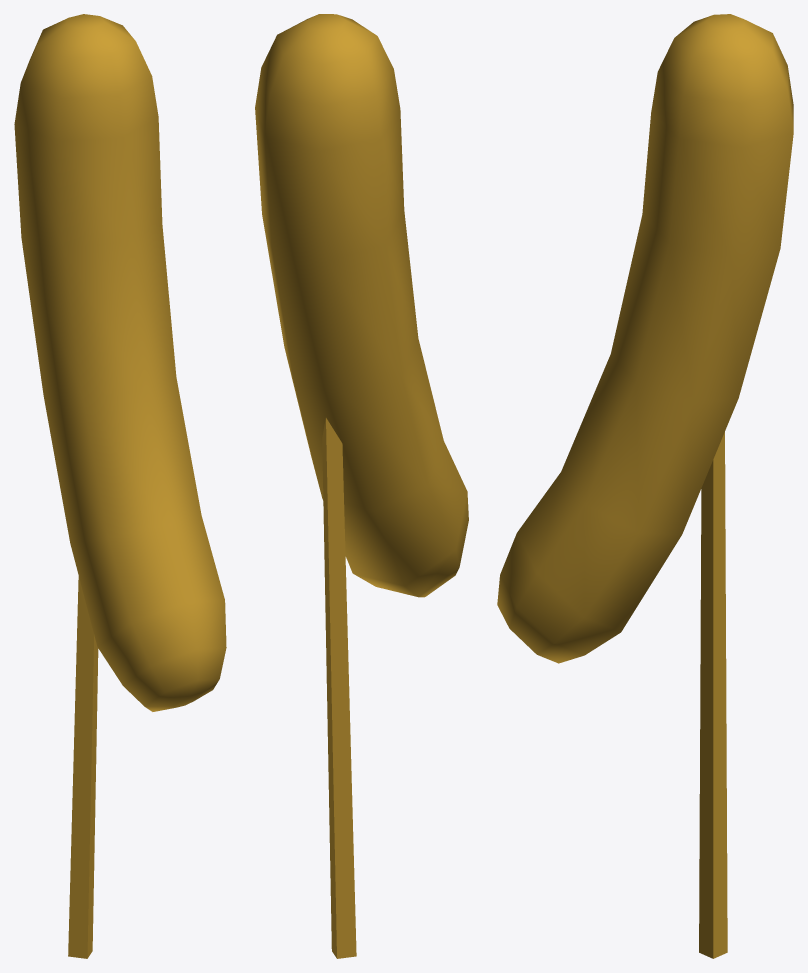
The model's file is SM_sausage.fbx.
3 views of the same model, side by side, from view 1: azimuth 30°, elevation 25°; view 2: azimuth 150°, elevation 25°; view 3: azimuth 270°, elevation 25° (orthographic).
Parts seen in each view (by area): view 1: Line057; view 2: Line057; view 3: Line057.
Boxes of the visible parts, x1,y1,x2,y2 form: Line057: (14,14,226,958); Line057: (255,14,468,958); Line057: (497,14,793,958).
Bounding box in the file's own units: 2.71 × 19.14 × 5.49.
